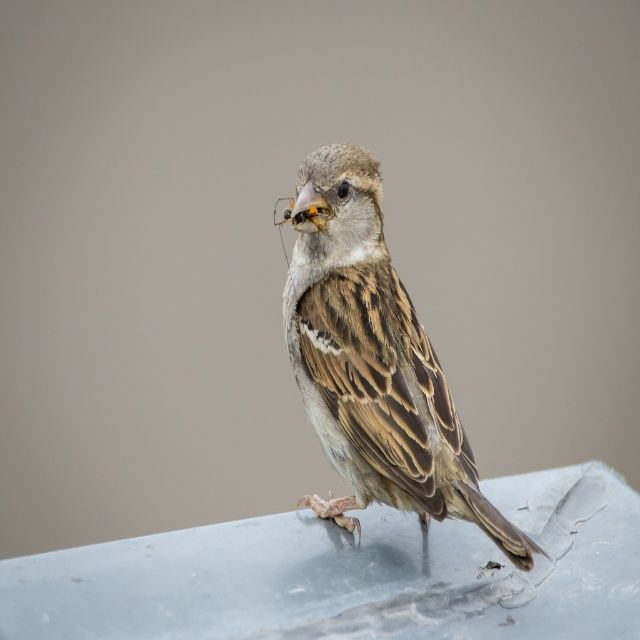Sparrow: (282, 133, 550, 573)
